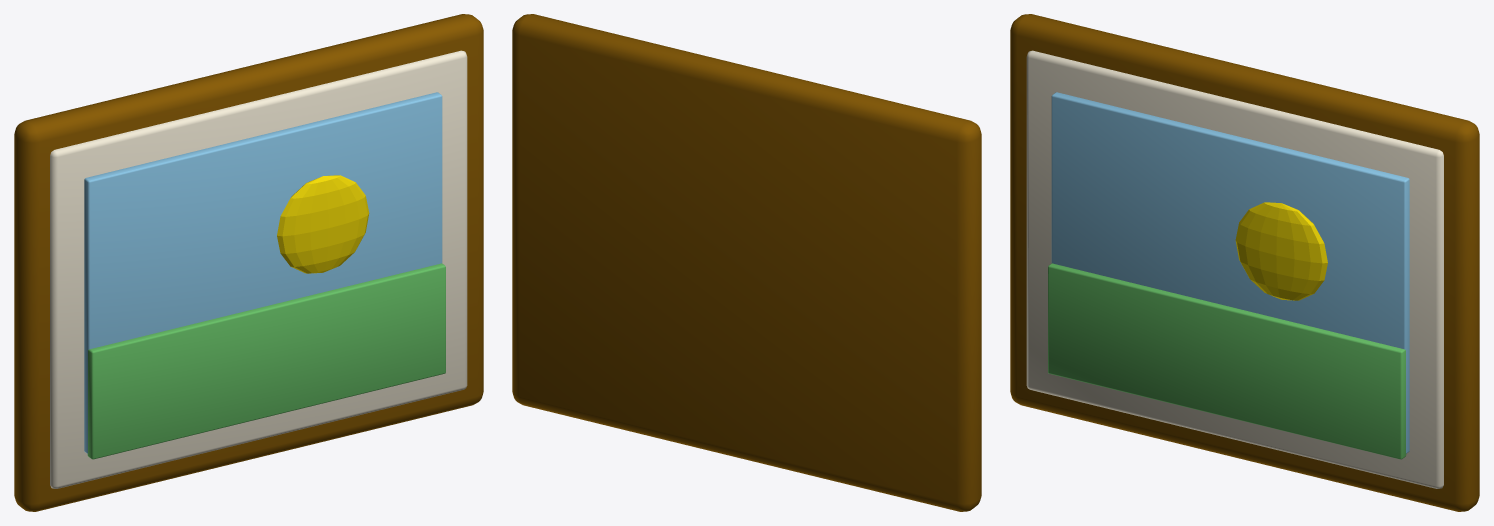
The model's file is picture_landscape.glb.
The picture shows the model from 3 angles, left to right: view 1: azimuth 30°, elevation 25°; view 2: azimuth 150°, elevation 25°; view 3: azimuth 330°, elevation 25°; orthographic projection.
Parts seen in each view (by area): view 1: sky, frame, mat, hill, Sphere; view 2: frame; view 3: sky, frame, mat, hill, Sphere.
Boxes of the visible parts, left/top/right/bottom form: sky: left=84, top=92, right=442, bottom=453; frame: left=14, top=14, right=483, bottom=511; mat: left=50, top=50, right=467, bottom=488; hill: left=87, top=263, right=445, bottom=459; Sphere: left=277, top=175, right=369, bottom=273; frame: left=512, top=14, right=981, bottom=511; sky: left=1051, top=92, right=1409, bottom=453; frame: left=1010, top=14, right=1479, bottom=511; mat: left=1026, top=50, right=1443, bottom=488; hill: left=1048, top=263, right=1406, bottom=459; Sphere: left=1235, top=202, right=1327, bottom=300.
Size of the model in its own units: 0.3 by 0.24 by 0.037.
